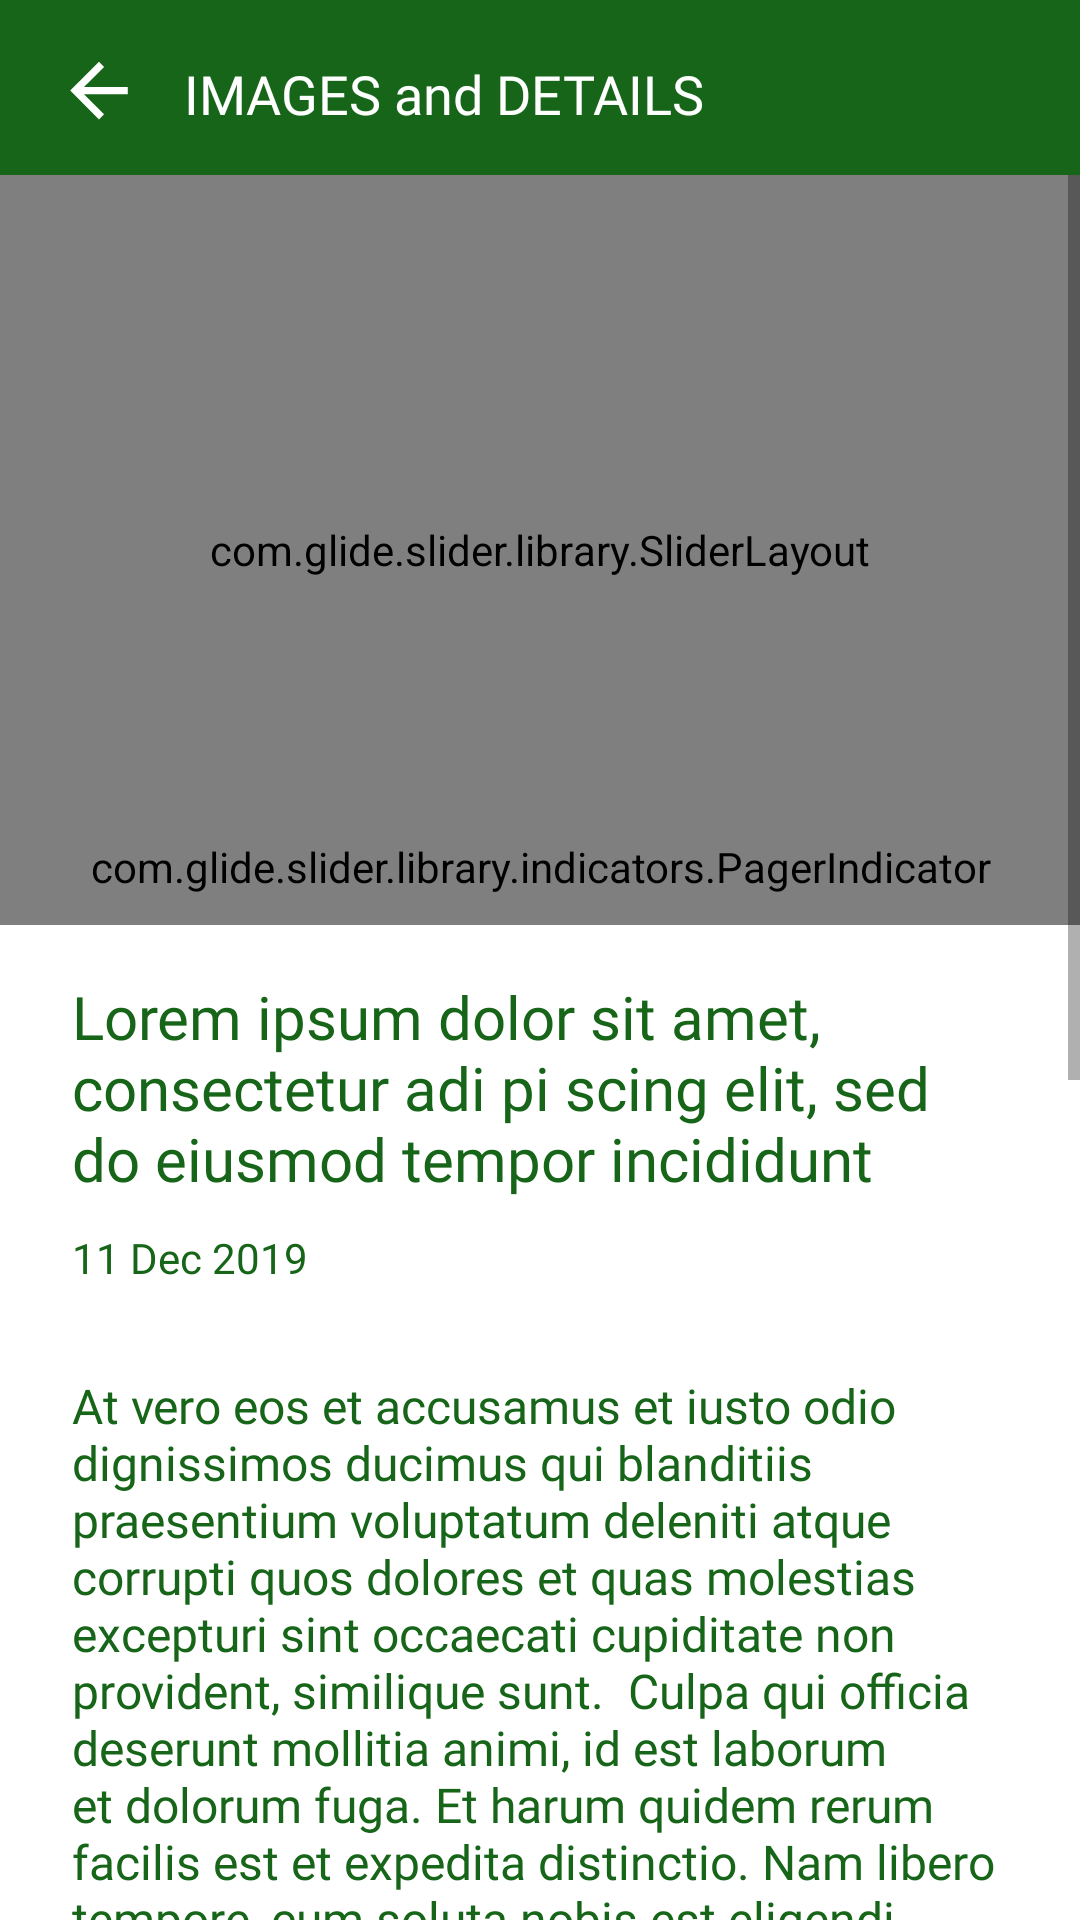

Screen size 1080px×1920px. Icon name, then its box in pixels as (x1, y1, x2, y2):
back arrow: (70, 62, 128, 120)
